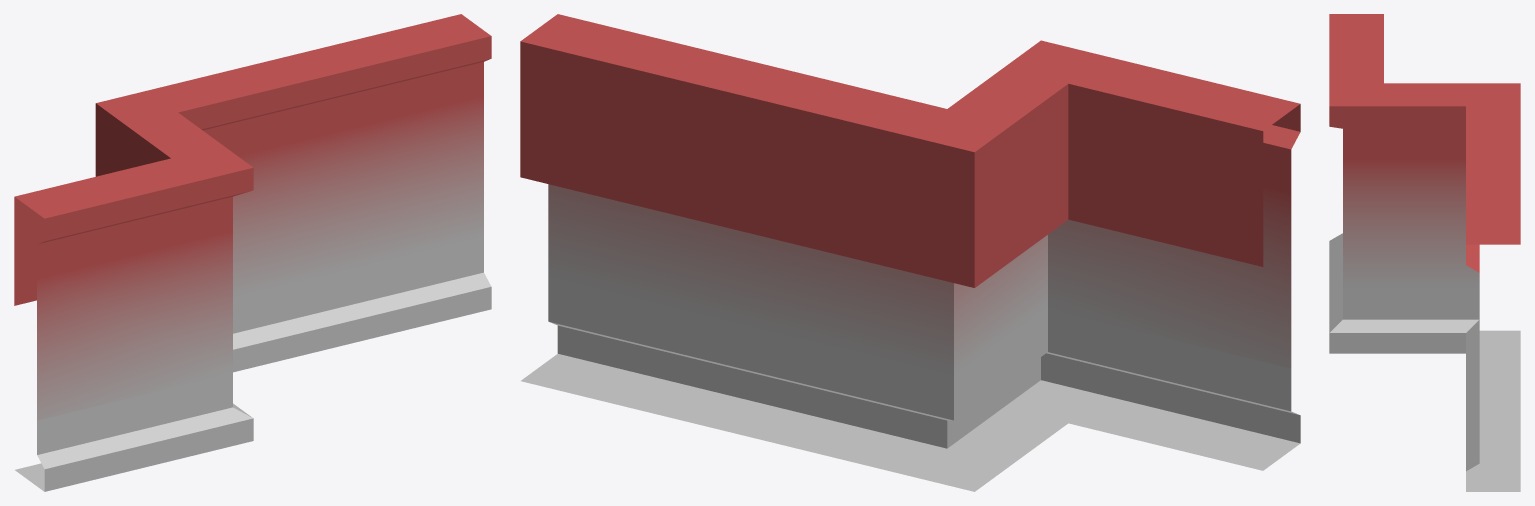
Rendered from Cornice_Metal_90Angle_L.gltf.
3 views of the same model, side by side, from view 1: azimuth 30°, elevation 25°; view 2: azimuth 150°, elevation 25°; view 3: azimuth 270°, elevation 25° (orthographic). The views are drawn at different scales.
Visible parts, largest first — view 1: Cornice_Metal_90Angle_L; view 2: Cornice_Metal_90Angle_L; view 3: Cornice_Metal_90Angle_L.
Part boxes in pixels (x1,y1,x2,y2): Cornice_Metal_90Angle_L: [14, 14, 491, 491]; Cornice_Metal_90Angle_L: [520, 14, 1300, 491]; Cornice_Metal_90Angle_L: [1329, 14, 1520, 491].
Size of what is drawn, in the model's own units: 2 by 1 by 0.7.
